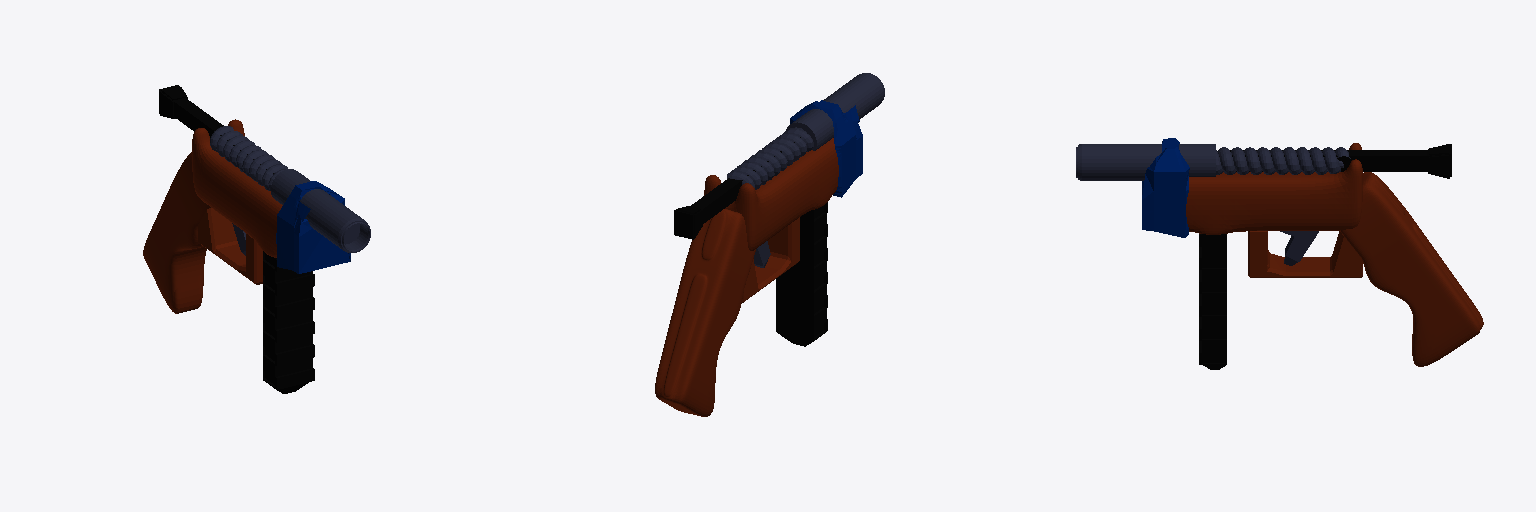
File: pistol.obj
3 views of the same model, side by side, from view 1: azimuth 30°, elevation 25°; view 2: azimuth 150°, elevation 25°; view 3: azimuth 270°, elevation 25° (orthographic).
Visible parts, largest first — view 1: Cube.001, Cube.003, Cube, Grid, Cylinder, Cube.005, Circle, Cube.004; view 2: Cube.001, Cube, Cube.003, Cylinder, Grid, Circle, Cube.005, Cube.004; view 3: Cube.001, Cube, Cylinder, Cube.003, Grid, Circle, Cube.005, Cube.004, Cube.002.
Part boxes in pixels (x1,y1,x2,y2): Cube.001: (143,152,210,313); Cube.003: (263,251,314,393); Cube: (192,119,282,257); Grid: (276,181,350,273); Cylinder: (271,169,370,252); Cube.005: (198,208,262,284); Circle: (210,126,287,190); Cube.004: (159,85,273,173); Cube.001: (655,209,755,416); Cube: (704,138,838,250); Cube.003: (776,202,827,346); Cylinder: (786,73,884,150); Grid: (790,100,862,197); Circle: (727,127,813,189); Cube.005: (742,217,799,302); Cube.004: (674,137,800,239); Cube.001: (1340,172,1483,366); Cube: (1186,143,1362,234); Cylinder: (1076,144,1215,180); Cube.003: (1199,234,1226,369); Grid: (1142,138,1189,237); Circle: (1216,147,1350,174); Cube.005: (1248,231,1362,277); Cube.004: (1230,144,1451,178); Cube.002: (1280,231,1318,265).
Size of the model in its own units: 2.05 by 8.31 by 13.75.